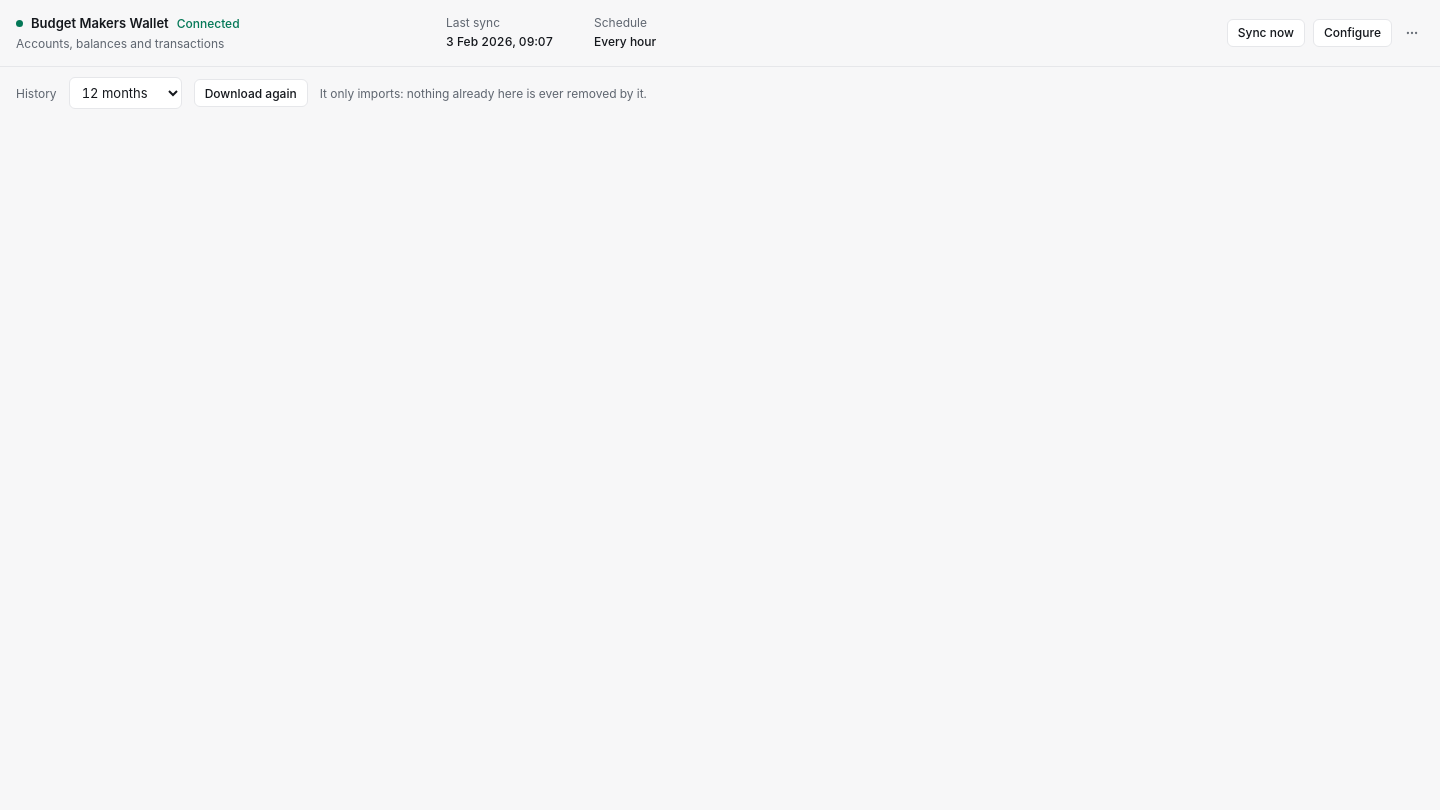
Test: WalletCard › shows a catalogued error instead of crashing when an action rejects
Click the button "Configure" at (1352, 33), box [1313,19,1392,47]
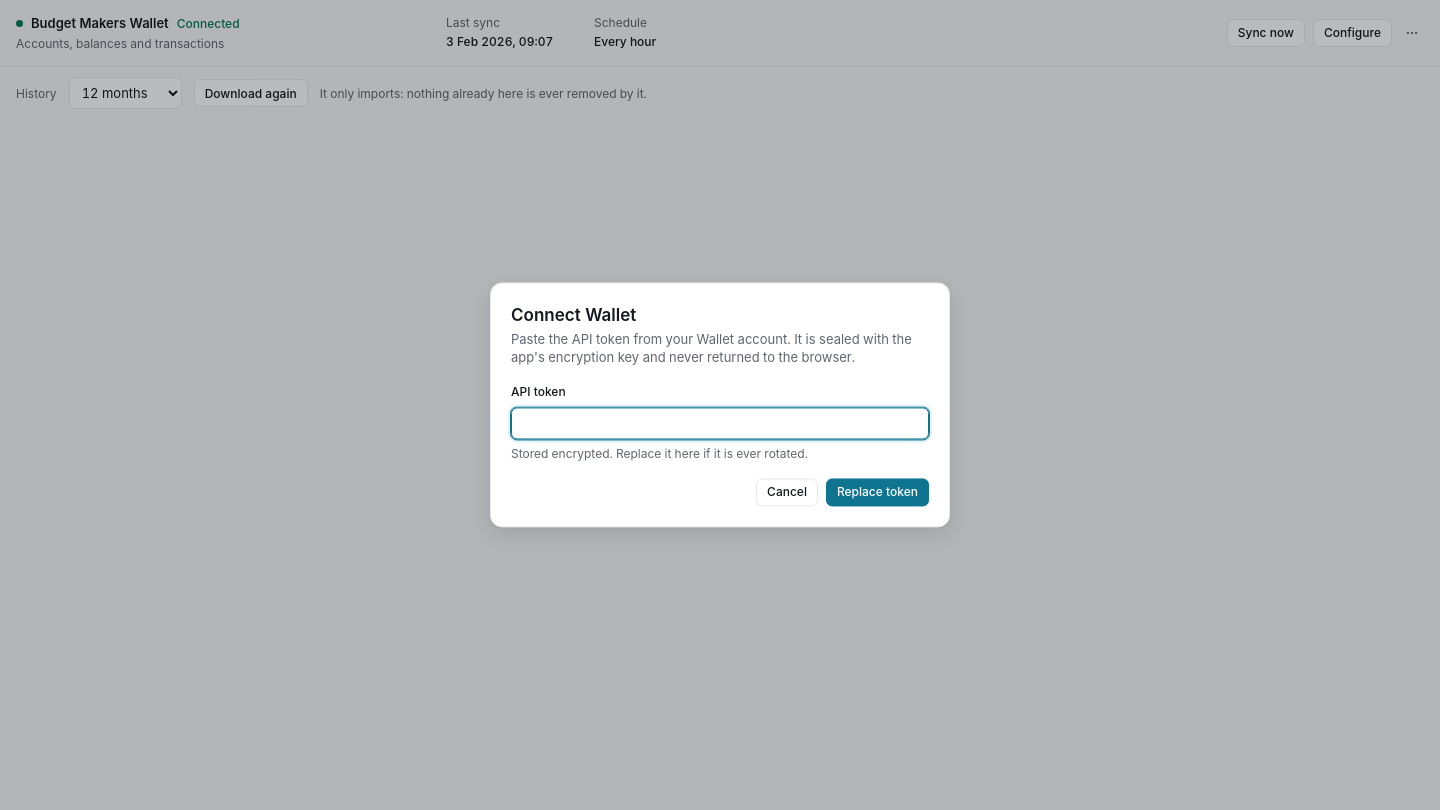
Type "wallet-secret-token-9f3a" into the password field labelled "API token" at (720, 423), box [511,407,929,439]
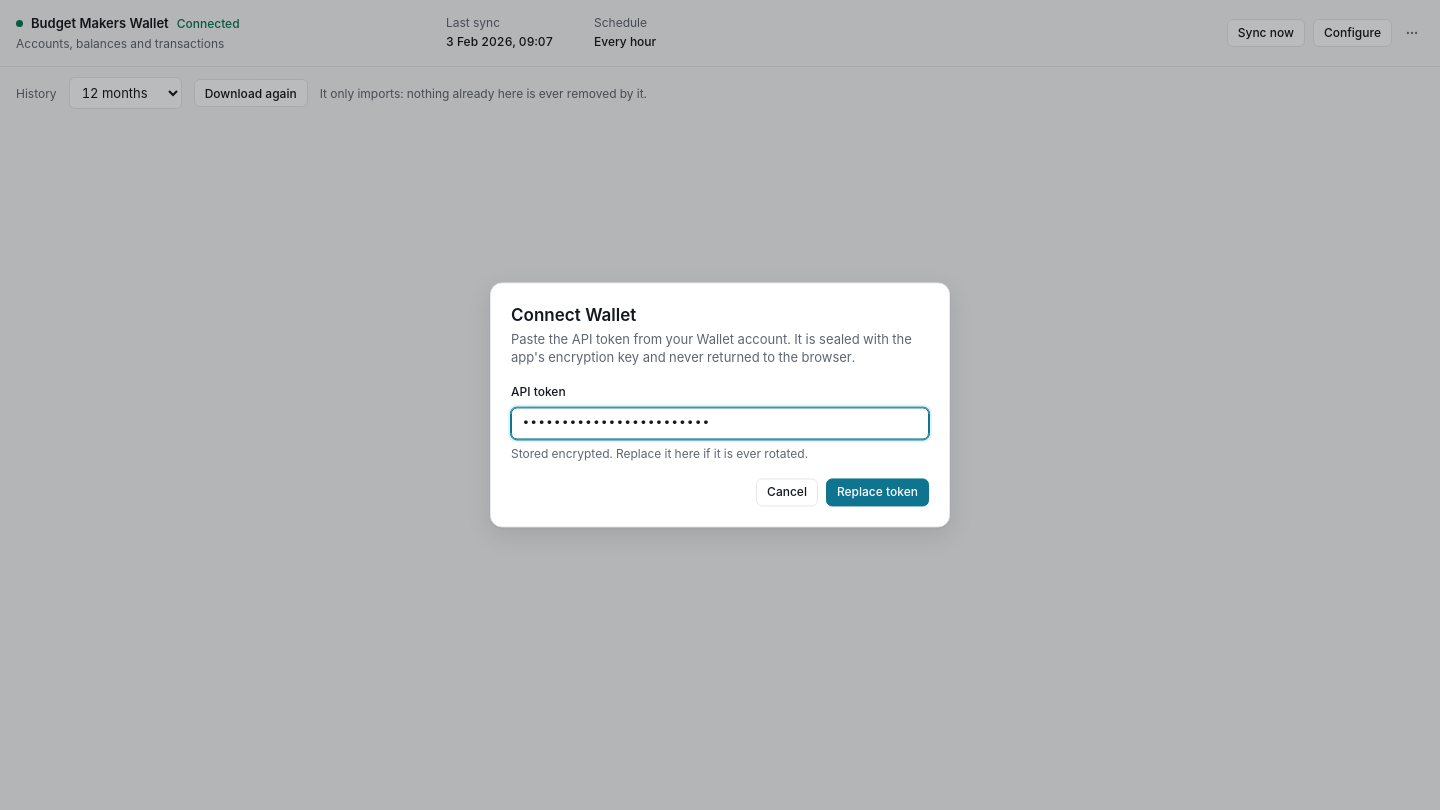
Click the button "Replace token" at (878, 493), box [826,479,929,507]
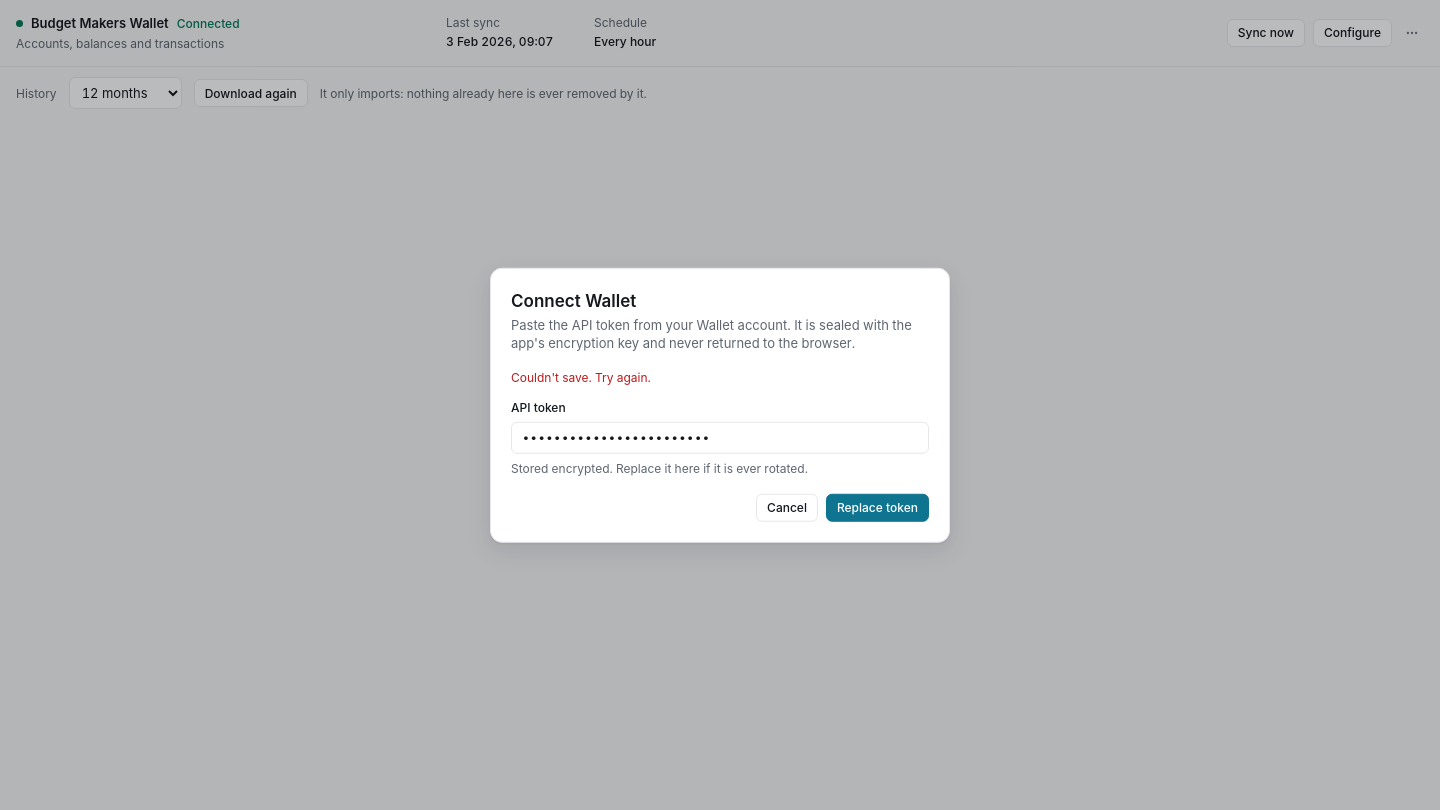
Check: the message reads "Couldn't save. Try again.", box [511,370,651,385]
